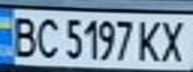1: (78, 16, 100, 61)
5: (60, 15, 84, 60)
7: (112, 17, 139, 62)
9: (97, 17, 118, 61)
B: (6, 12, 39, 59)
C: (33, 15, 60, 60)
K: (133, 17, 166, 63)
X: (154, 17, 190, 63)
